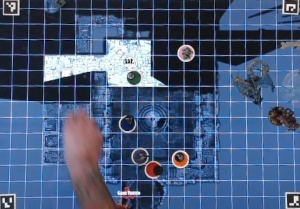blue: (114, 113, 141, 134)
green: (124, 69, 145, 88)
orange: (169, 148, 193, 169)
pink: (175, 42, 198, 63)
red: (143, 158, 164, 177)
violet: (129, 145, 149, 165)
